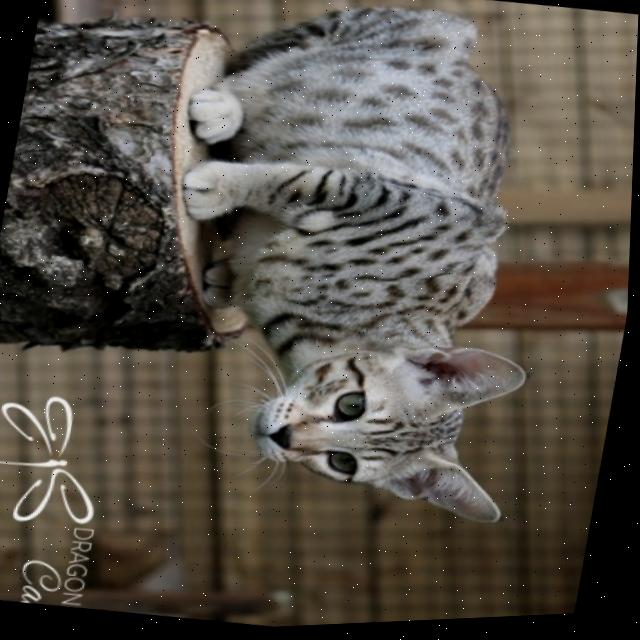Savannah: (118, 0, 599, 547)
